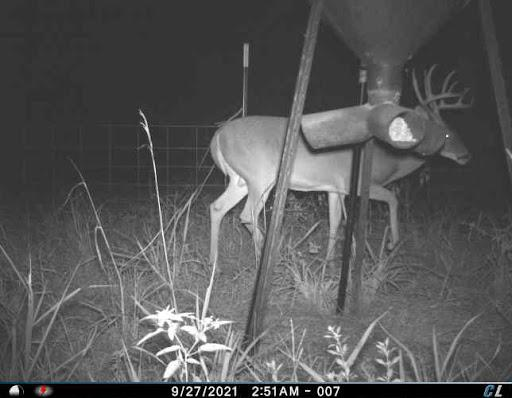Deer: (198, 50, 480, 279)
